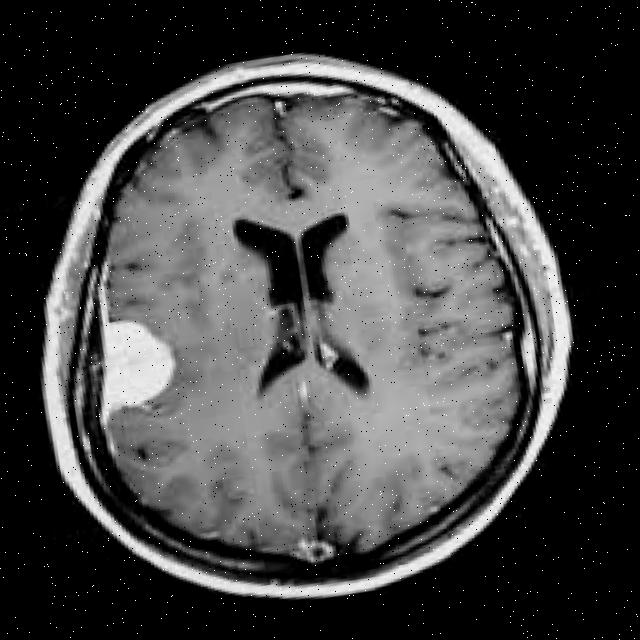Meningioma: (79, 302, 191, 422)
